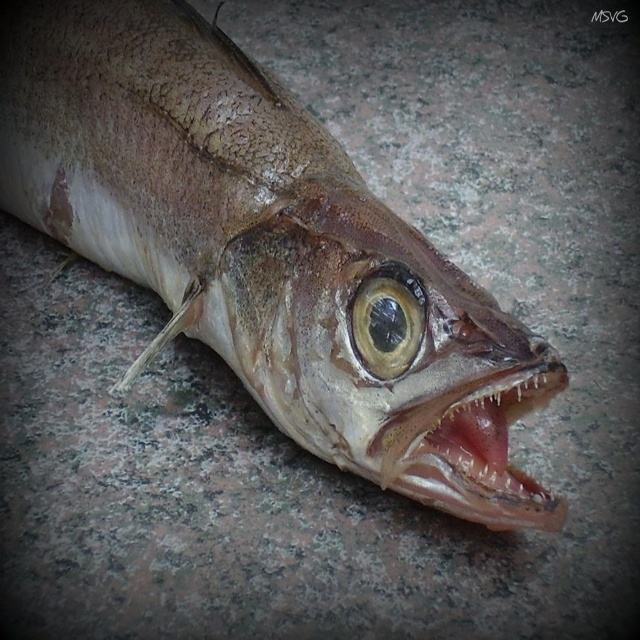Fish: (0, 0, 570, 537)
